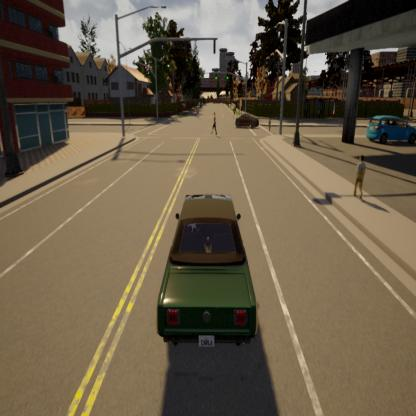Cars: (141, 184, 280, 374), (361, 105, 416, 154), (229, 103, 271, 151)
Pedestrian: (350, 148, 373, 211), (205, 105, 223, 140)
